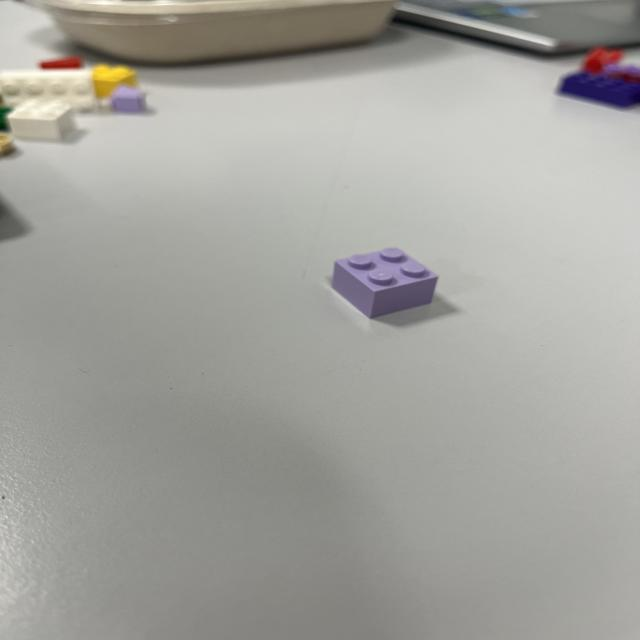C2x2x1: (330, 246, 441, 320)
